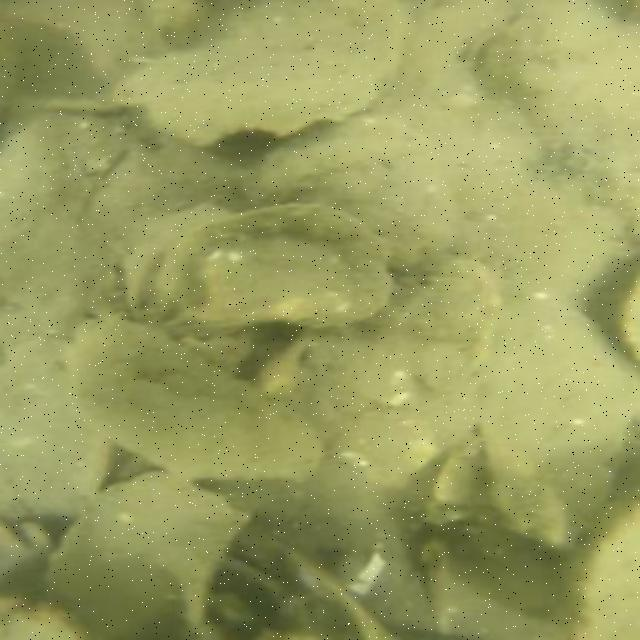Oyster-Closed: (65, 312, 326, 484), (111, 0, 413, 148), (472, 295, 639, 550), (134, 200, 411, 339), (38, 470, 251, 639), (244, 115, 466, 268)
